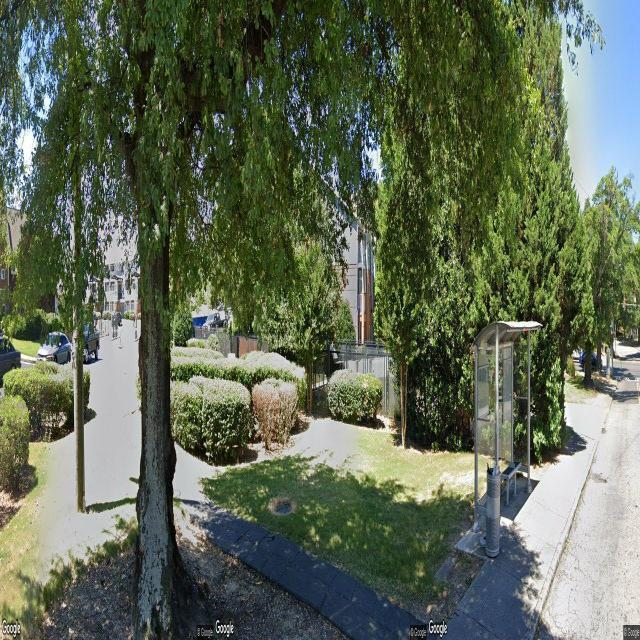seating: (501, 458, 522, 508)
shelter: (470, 318, 543, 534)
trash_can: (486, 466, 501, 558)
